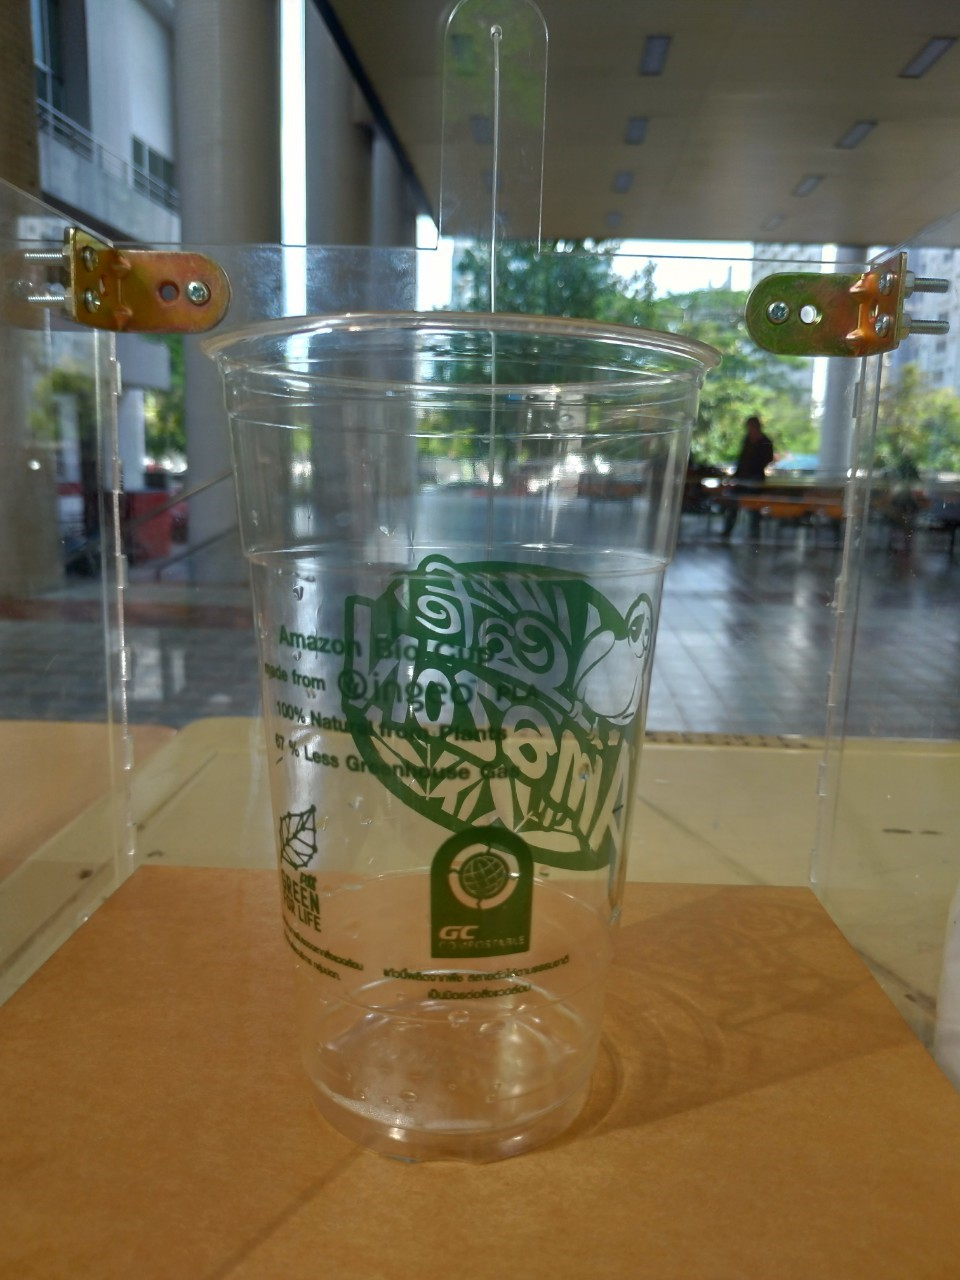PlasticCup: (200, 308, 722, 1172)
